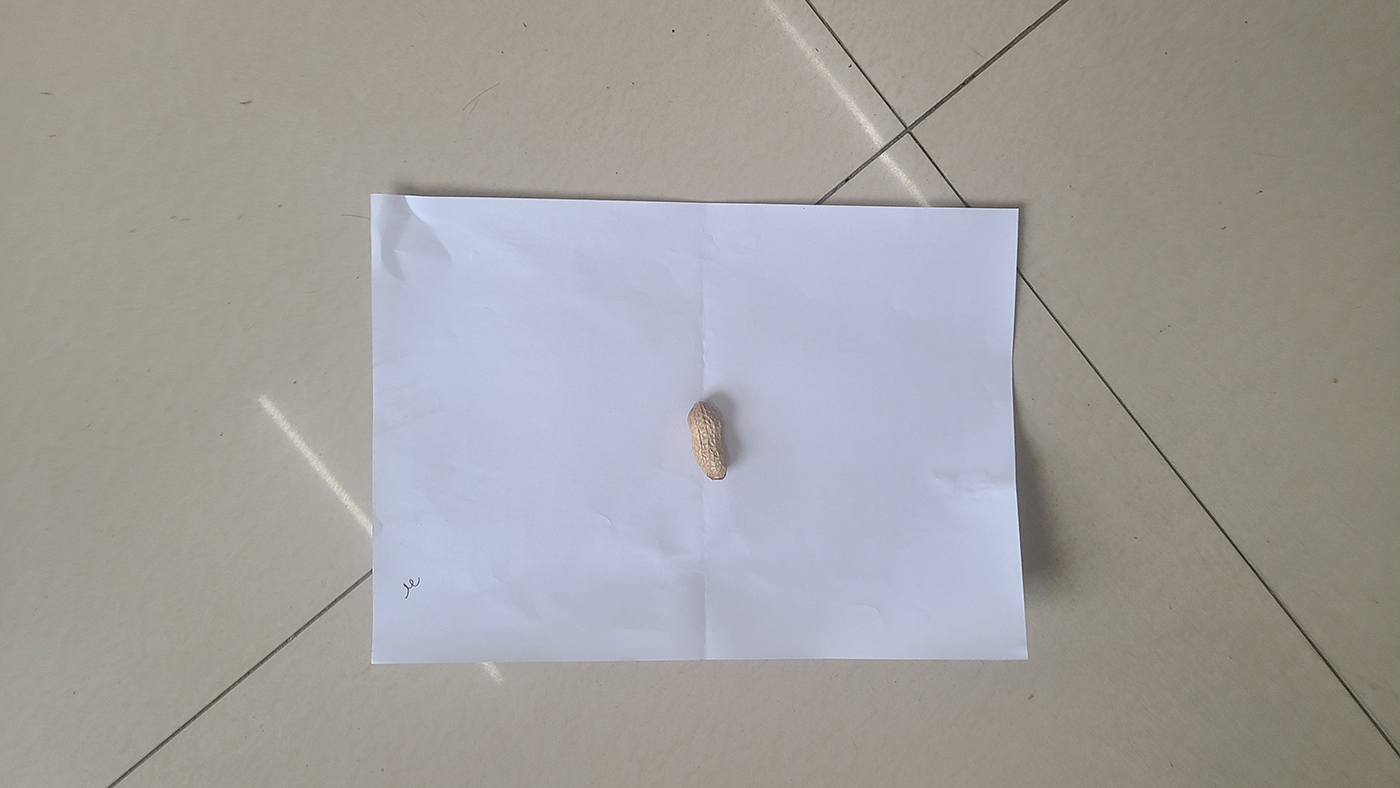h: (685, 398, 731, 484)
